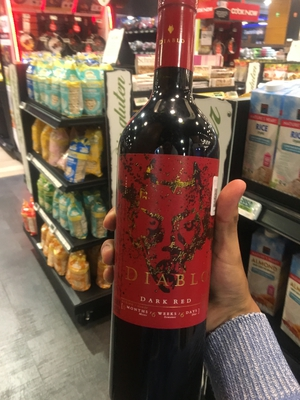diablo dark red: (104, 18, 231, 380)
